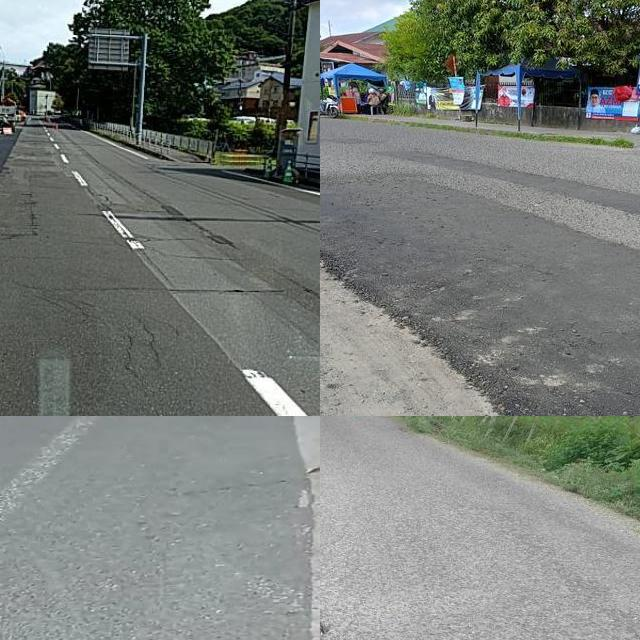Sambungan: (320, 168, 640, 416), (0, 195, 285, 416), (380, 149, 640, 217)
